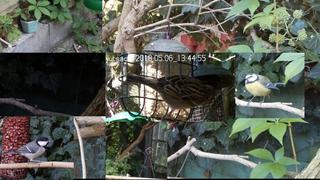blue tit: (243, 73, 284, 107)
great tit: (3, 136, 54, 167)
sparrow: (126, 73, 215, 114)
